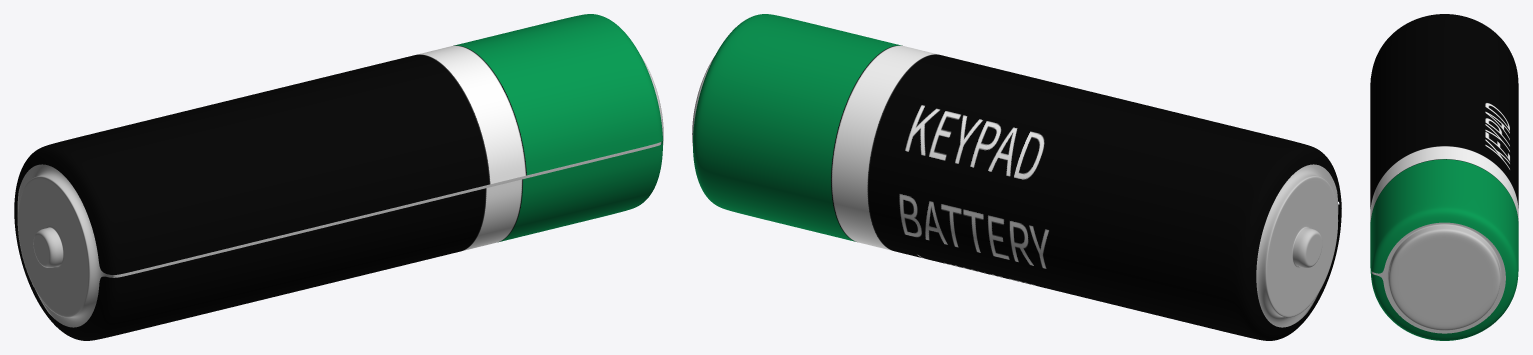
File: battery_green.fbx
3 renders of one model, left to right at view 1: azimuth 30°, elevation 25°; view 2: azimuth 150°, elevation 25°; view 3: azimuth 270°, elevation 25°, orthographic. The views are drawn at different scales.
Visible parts, largest first — view 1: BurntBattery_03; view 2: BurntBattery_03; view 3: BurntBattery_03.
Part boxes in pixels (x1,y1,x2,y2): BurntBattery_03: (14,14,663,340); BurntBattery_03: (692,14,1341,340); BurntBattery_03: (1370,14,1518,340).
Size of the model in its own units: 1126 by 335 by 336.
